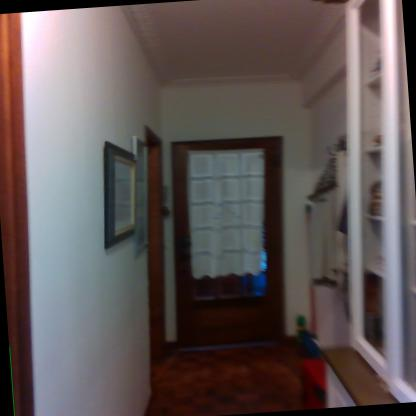closed: (153, 132, 314, 363)
